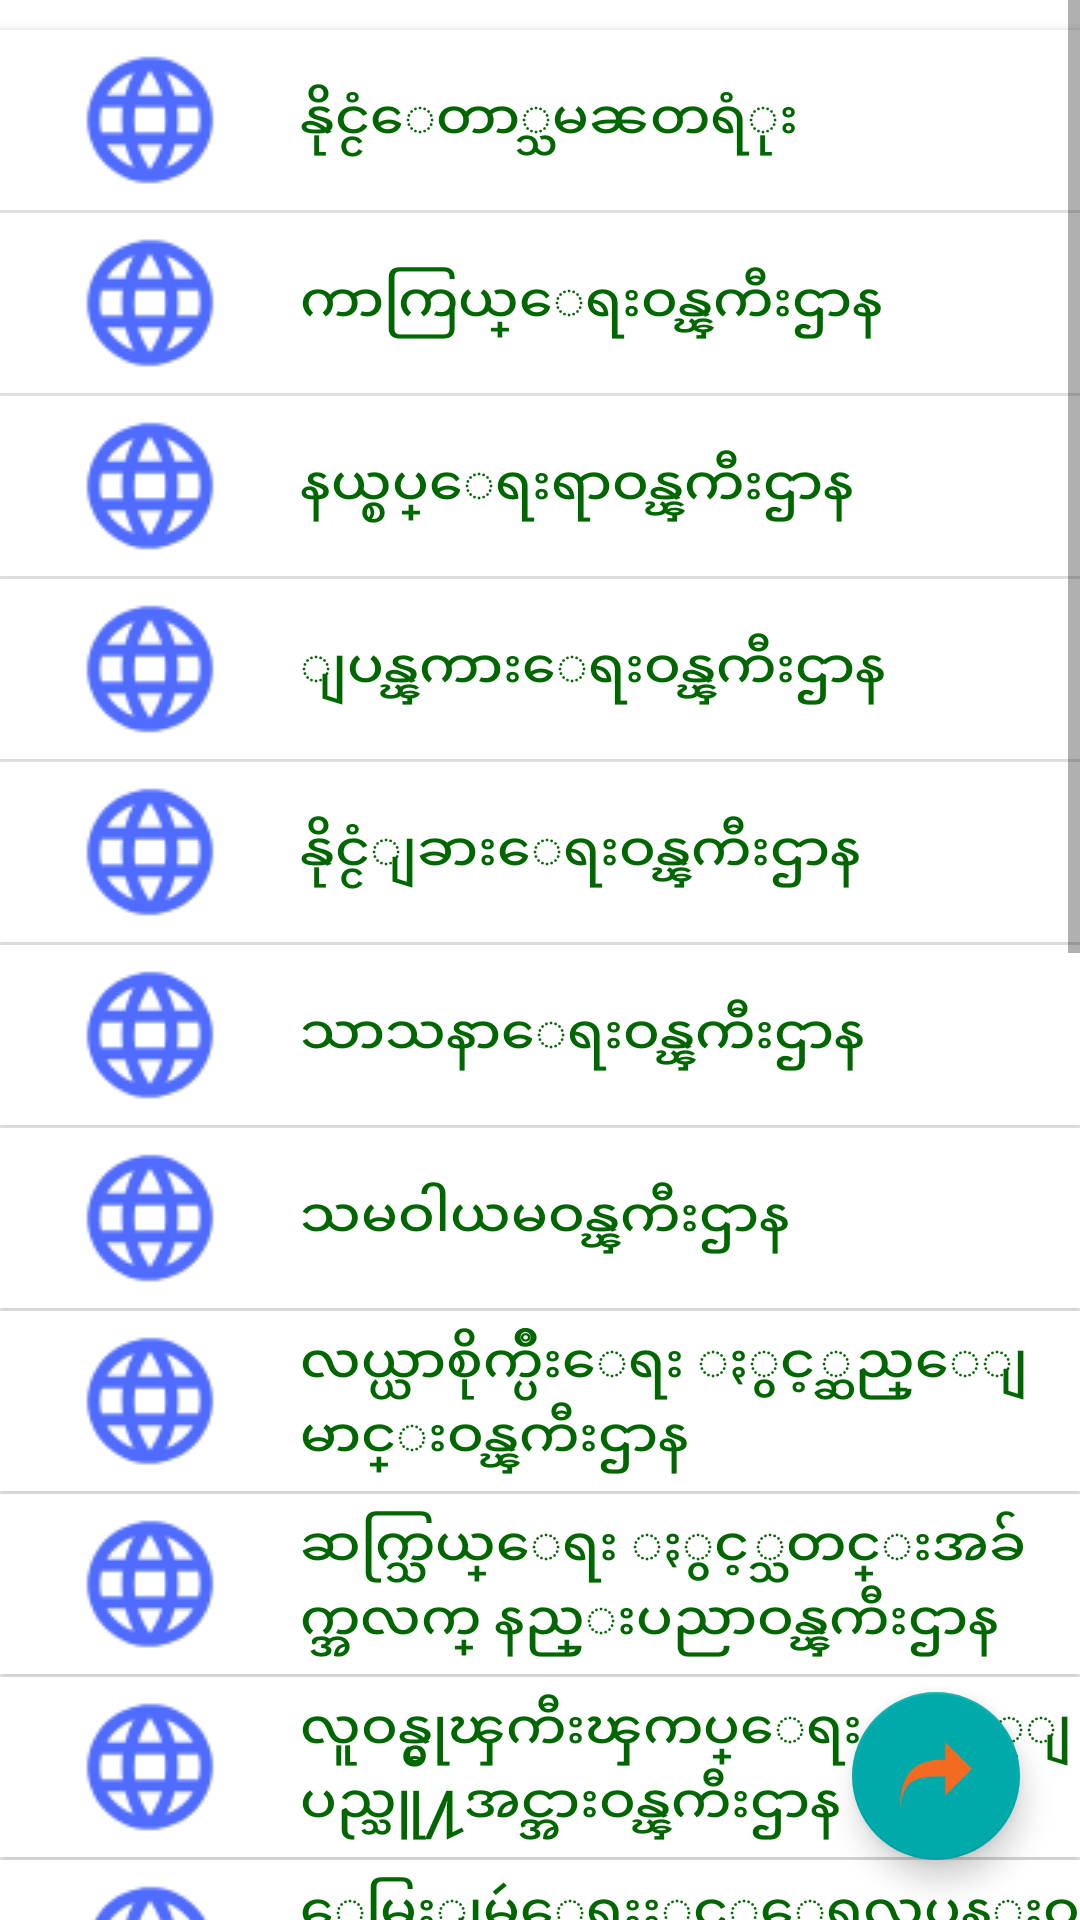

Where icons sit on this 1080x1920 app screen, as box=[x1, y1, x2, y2]:
share: box=[852, 1692, 1020, 1860]
